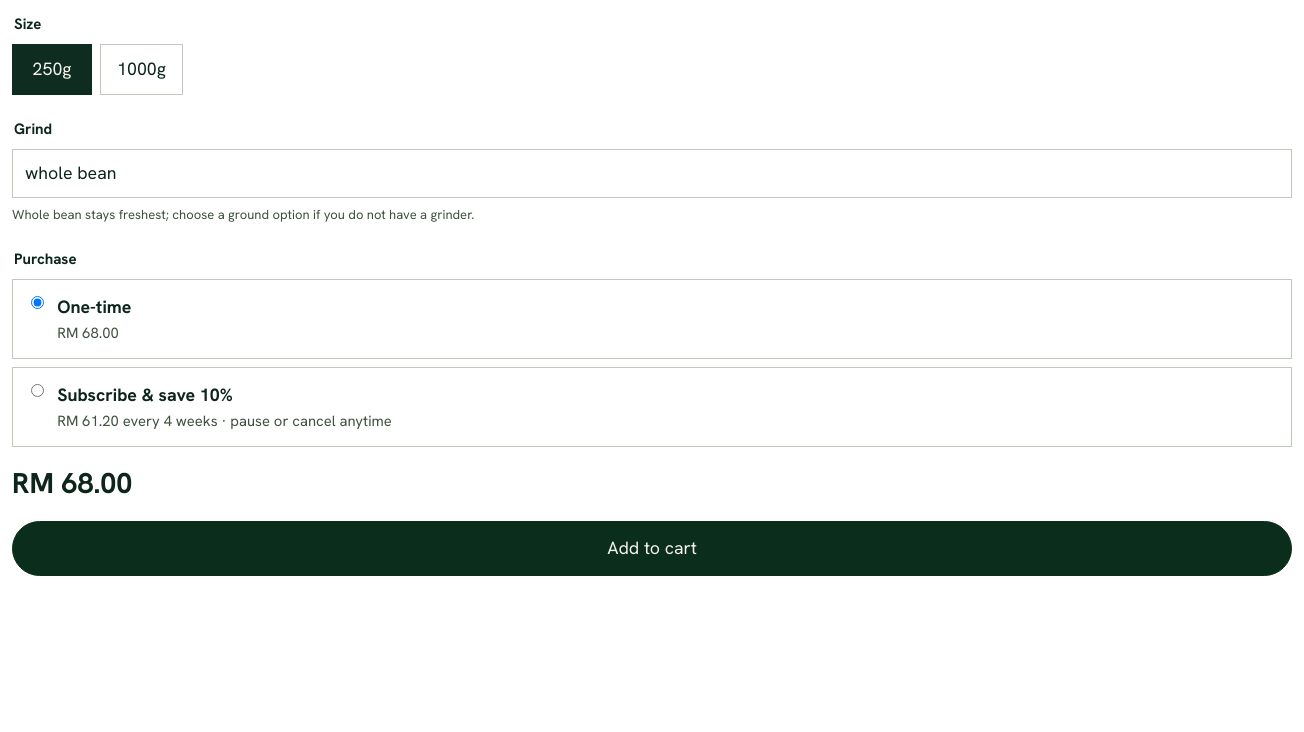
PurchaseConfigurator › updates the recurring price and submits a typed selection
This screenshot has width=1304, height=732.
Click the radio button labelled "Subscribe & save".
click(37, 390)  # box [31,384,44,397]
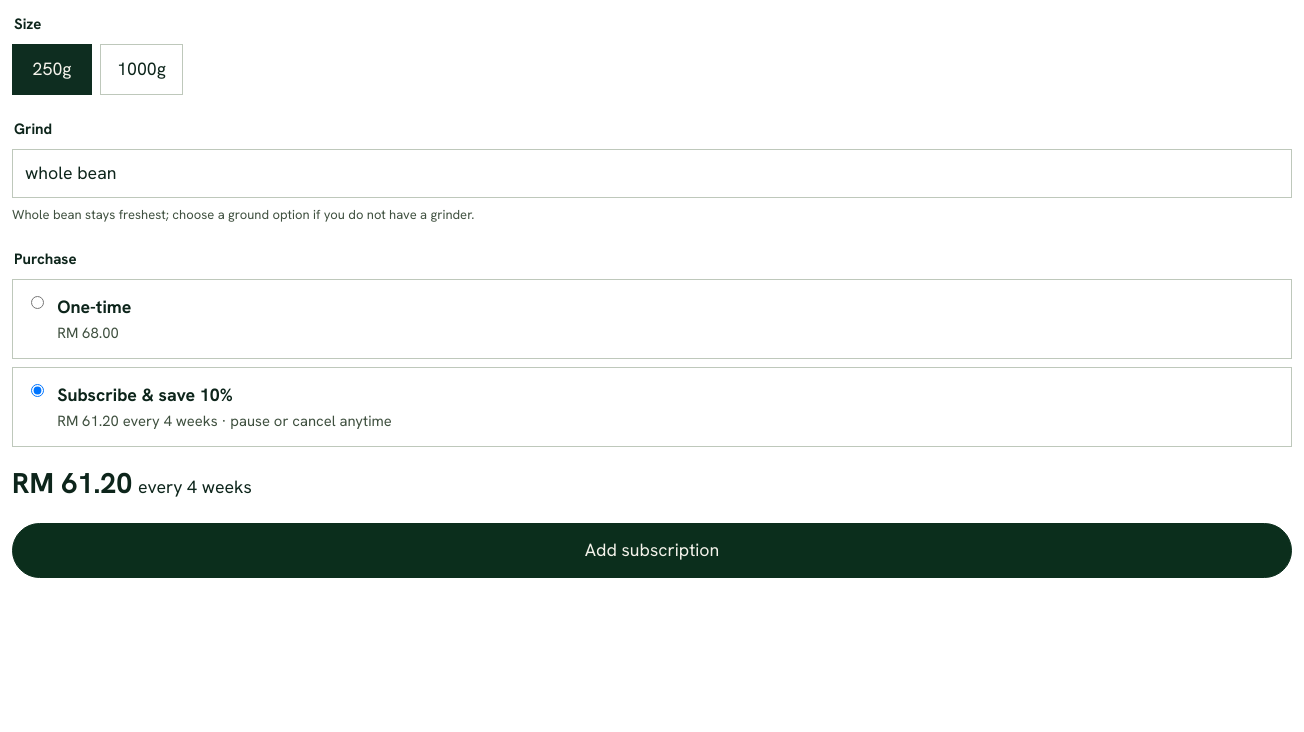
Check: the text "RM 61.20 every 4 weeks · pause or cancel anytime" is shown 2 times, box [57,411,392,430]; [138,473,252,502]
Click the button "Add subscription".
click(652, 550)  # box [12,523,1292,578]
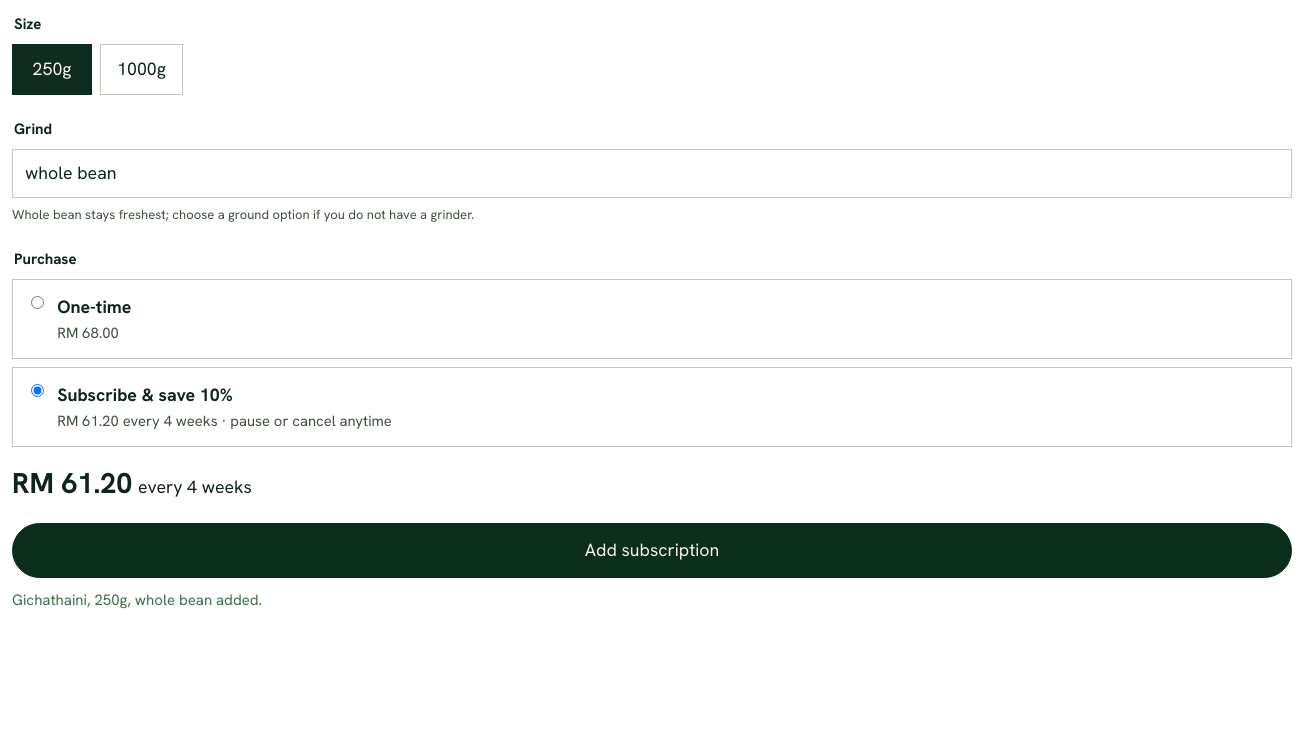
Check: the text "Gichathaini, 250g, whole bean added." is shown, box [12,590,262,610]
